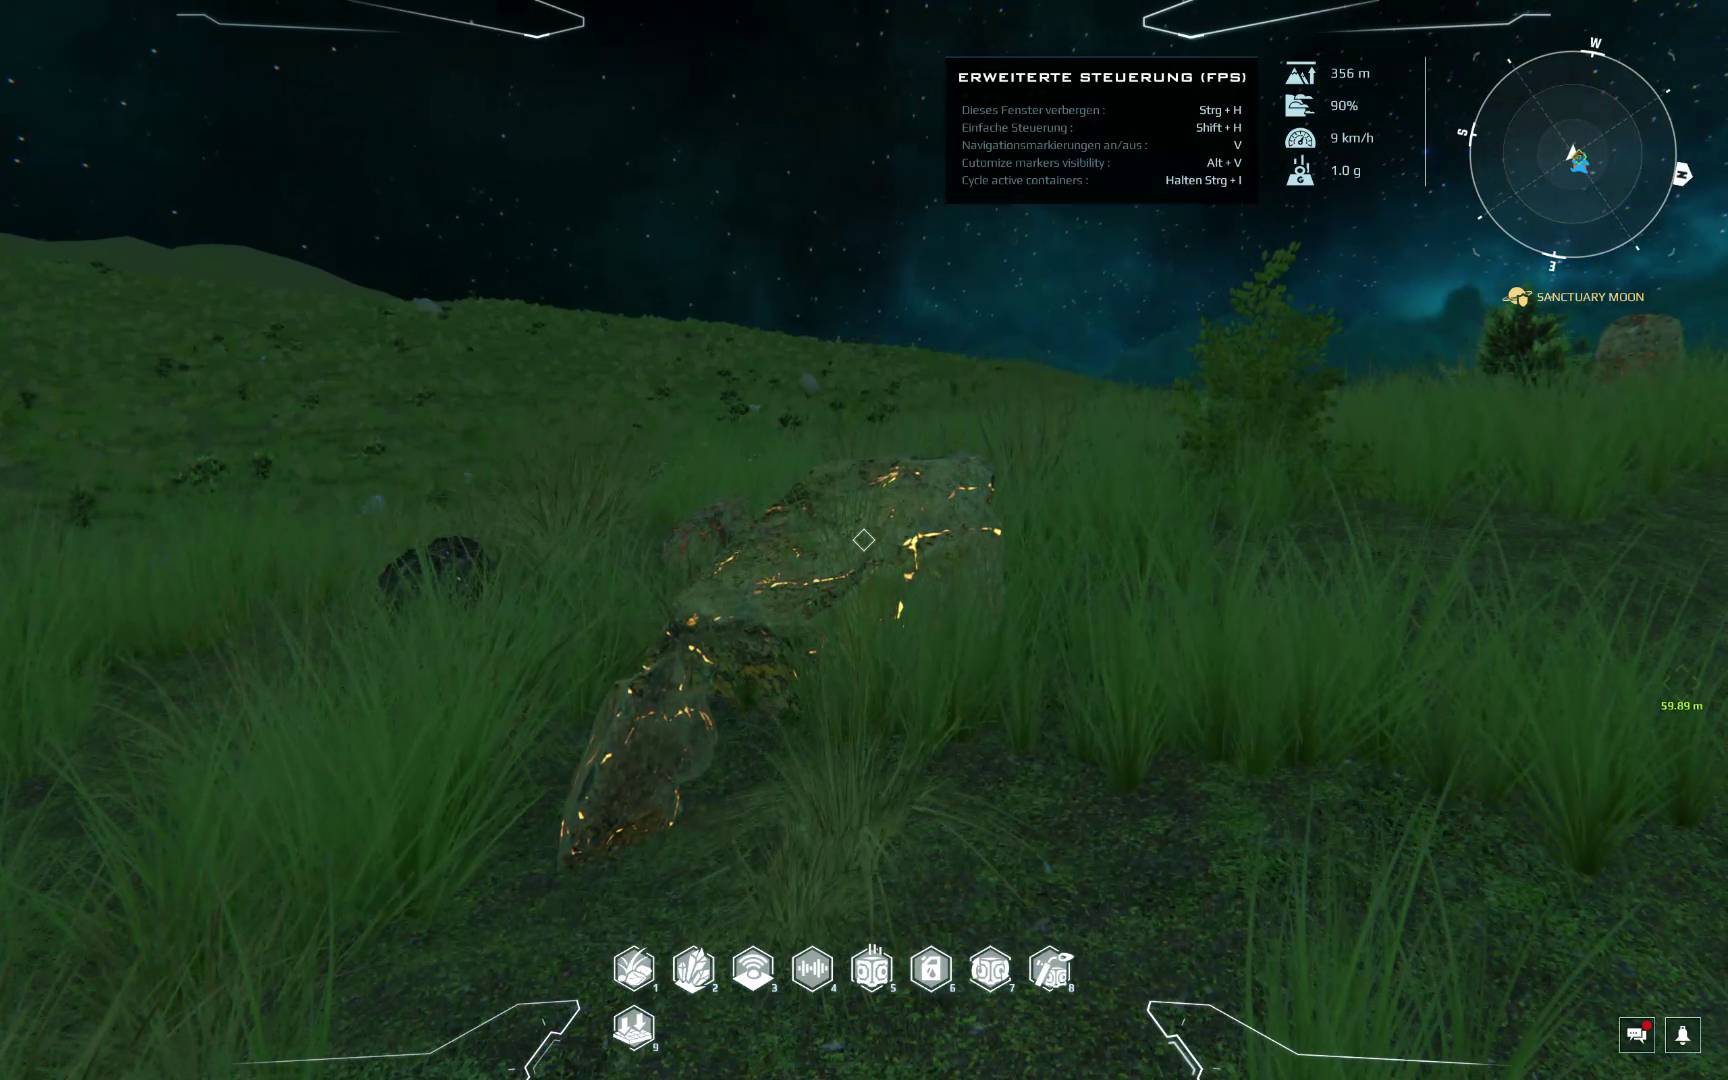Ore: (666, 450, 1005, 722), (539, 656, 727, 860), (378, 534, 496, 613), (653, 494, 754, 579)
